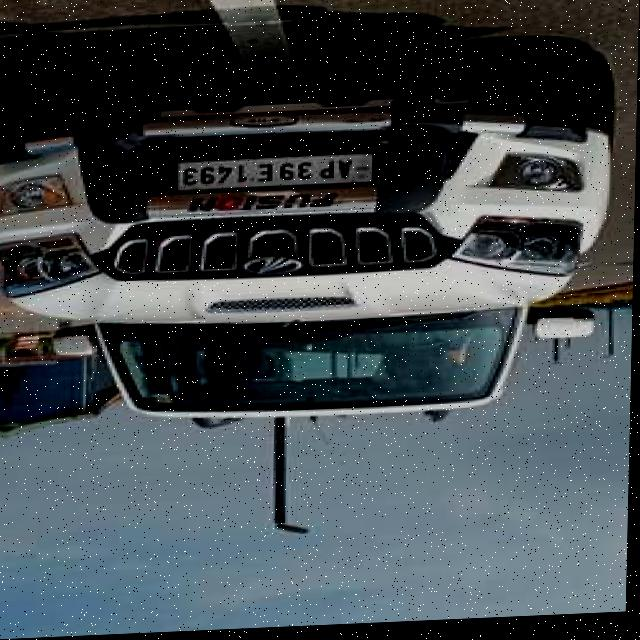plate: (175, 156, 376, 195)
